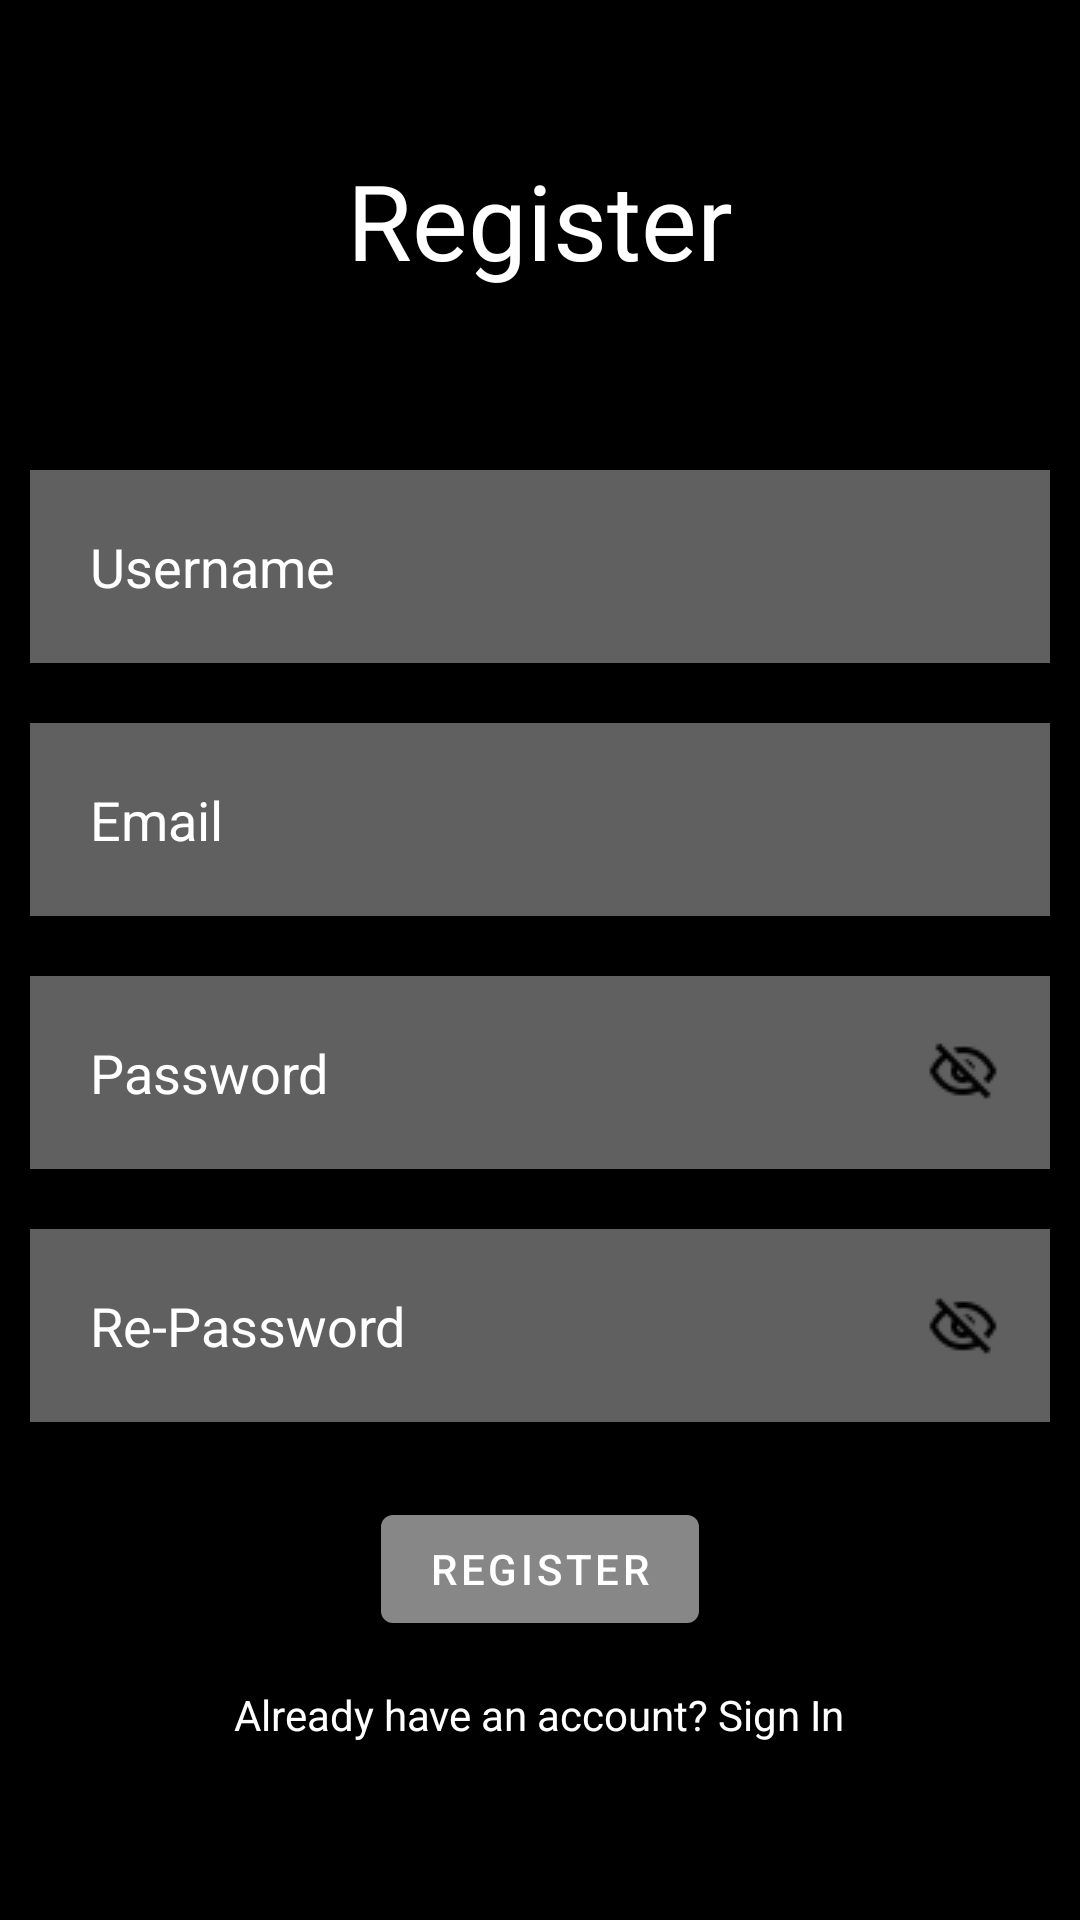

Screen size 1080 × 1920. Icon name, then its box in pixels as (x1, y1, x2, y2):
hide ped: (929, 1043, 997, 1099), (929, 1298, 997, 1354)
